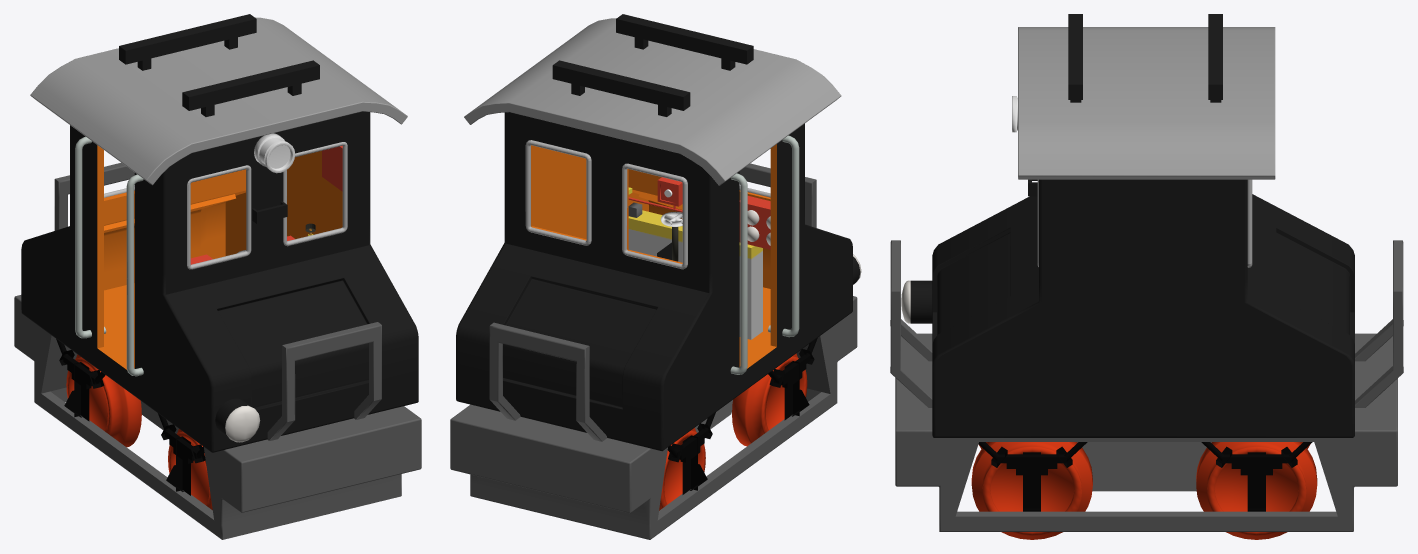
The model's file is train.glb.
3 views of the same model, side by side, from view 1: azimuth 30°, elevation 25°; view 2: azimuth 150°, elevation 25°; view 3: azimuth 270°, elevation 25° (orthographic). The views are drawn at different scales.
Parts seen in each view (by area): view 1: Cube.001, Cube, Cube.002, Cube.003, Cube.015; view 2: Cube.001, Cube, Cube.015, Cube.002, Cylinder.002; view 3: Cube.001, Cube, Cube.002.
Part boxes in pixels (box(x1,y1,x2,y2)): Cube.001: box(21, 14, 418, 452); Cube: box(14, 162, 421, 539); Cube.002: box(66, 354, 212, 509); Cube.003: box(254, 133, 295, 173); Cube.015: box(190, 145, 342, 264); Cube.001: box(456, 14, 861, 451); Cube: box(450, 163, 857, 539); Cube.015: box(628, 177, 770, 339); Cube.002: box(659, 353, 807, 510); Cylinder.002: box(660, 212, 682, 261); Cube.001: box(901, 14, 1354, 437); Cube: box(890, 240, 1403, 531); Cube.002: box(971, 442, 1317, 539).
Bounding box in the file's own units: 7.86 × 11.81 × 12.08.
2 materials, 1 textured.
